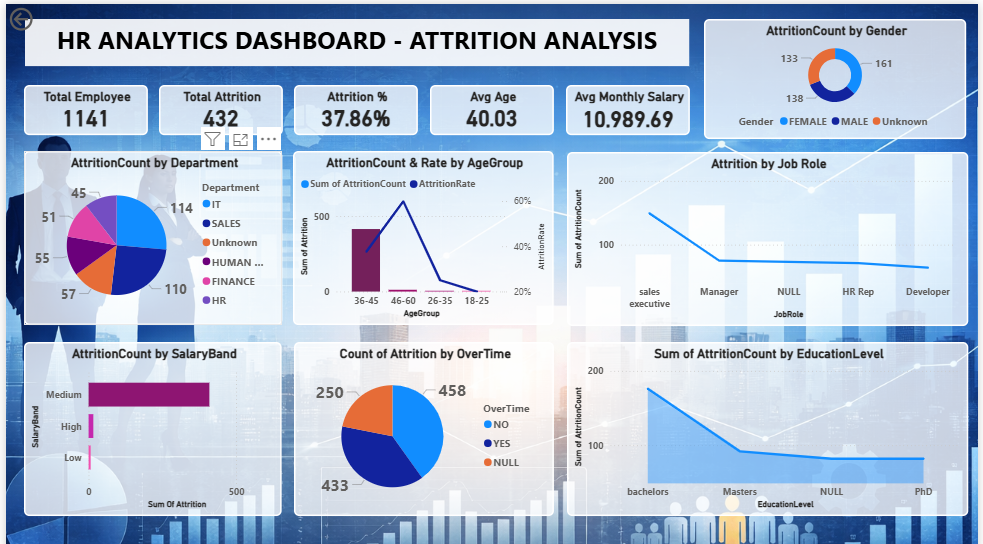

Layout of this report page (visuals, bound fields, positions):
{"tool":"powerbi","page":{"name":"Page 1","canvas":[1280,720],"ordinal":0},"visuals":[{"type":"textbox","box":[24.6,20.3,873.9,62.3],"z":0},{"type":"card","title":"Total Employee","fields":{"Values":["CountNonNull(Table1.EmployeeId)"]},"box":[23.2,106.8,162.7,65.7],"z":1000},{"type":"card","title":"Total Attrition","fields":{"Values":["Sum(Table1.AttritionCount)"]},"box":[200.8,106.8,162.7,65.7],"z":2000},{"type":"card","title":"Attrition %","fields":{"Values":["Table1.AttritionRate"]},"box":[378.4,106.8,162.7,65.7],"z":3000},{"type":"card","title":"Avg Age","fields":{"Values":["Avg(Table1.Age)"]},"box":[557.5,106.8,162.7,65.7],"z":4000},{"type":"card","title":"Avg Monthly Salary","fields":{"Values":["Avg(Table1.MonthlyIncome)"]},"box":[736.6,106.3,162.7,66.2],"z":5000},{"type":"actionButton","box":[0,0,100,40],"z":6000},{"type":"donutChart","title":"AttritionCount by Gender","fields":{"Category":["Table1.Gender"],"Y":["Sum(Table1.AttritionCount)"]},"box":[918.8,20.3,344.9,158],"z":7000},{"type":"pieChart","title":"AttritionCount by Department","fields":{"Category":["Table1.Department"],"Y":["Sum(Table1.AttritionCount)"]},"box":[23.8,193.9,339.8,229],"z":8000},{"type":"lineStackedColumnComboChart","title":"AttritionCount & Rate by AgeGroup","fields":{"Category":["Table1.AgeGroup"],"Y":["Sum(Table1.AttritionCount)"],"Y2":["Table1.AttritionRate"]},"box":[378,193.9,342.7,229],"z":9000},{"type":"lineChart","title":"Attrition by Job Role","fields":{"Y":["Sum(Table1.AttritionCount)"],"Category":["Table1.JobRole"]},"box":[737.7,194.2,527.5,229],"z":10000},{"type":"barChart","title":"AttritionCount by SalaryBand","fields":{"Category":["Table1.SalaryBand"],"Y":["Sum(Table1.AttritionCount)"]},"box":[23.9,444.3,339.1,229],"z":11000},{"type":"pieChart","fields":{"Y":["CountNonNull(Table1.Attrition)"],"Category":["Table1.OverTime"]},"box":[379,444.3,342,229],"z":12000},{"type":"stackedAreaChart","fields":{"Category":["Table1.EducationLevel"],"Y":["Sum(Table1.AttritionCount)"]},"box":[737.7,444.9,527.5,229],"z":13000}]}

Visuals, with their boxes in screenshot pixels (x1, y1, x2, y2), scaled from the page's 1280x720 canvas onto the 983x544 screenshot:
textbox: select_region(19, 15, 690, 62)
"Total Employee" card: select_region(18, 81, 143, 130)
"Total Attrition" card: select_region(154, 81, 279, 130)
"Attrition %" card: select_region(291, 81, 416, 130)
"Avg Age" card: select_region(428, 81, 553, 130)
"Avg Monthly Salary" card: select_region(566, 80, 691, 130)
actionButton: select_region(0, 0, 77, 30)
"AttritionCount by Gender" donutChart: select_region(706, 15, 970, 135)
"AttritionCount by Department" pieChart: select_region(18, 147, 279, 320)
"AttritionCount & Rate by AgeGroup" lineStackedColumnComboChart: select_region(290, 147, 553, 320)
"Attrition by Job Role" lineChart: select_region(567, 147, 972, 320)
"AttritionCount by SalaryBand" barChart: select_region(18, 336, 279, 509)
pieChart - CountNonNull(Table1.Attrition) x Table1.OverTime: select_region(291, 336, 554, 509)
stackedAreaChart - Table1.EducationLevel x Sum(Table1.AttritionCount): select_region(567, 336, 972, 509)
